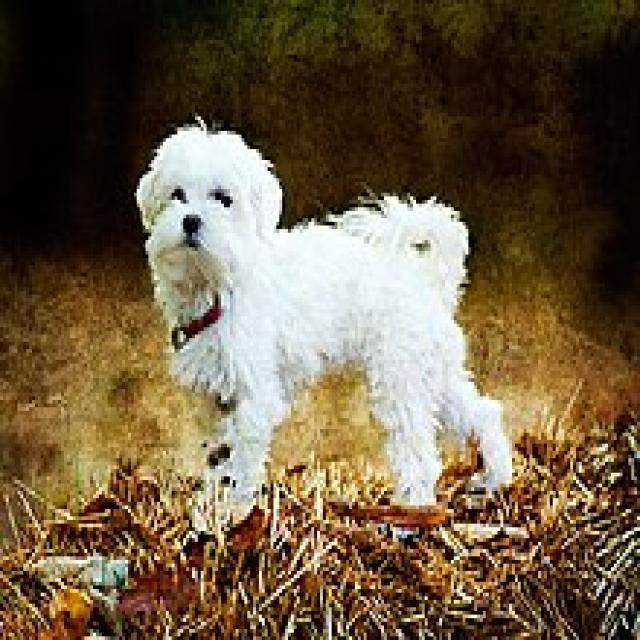maltese: (122, 118, 529, 522)
